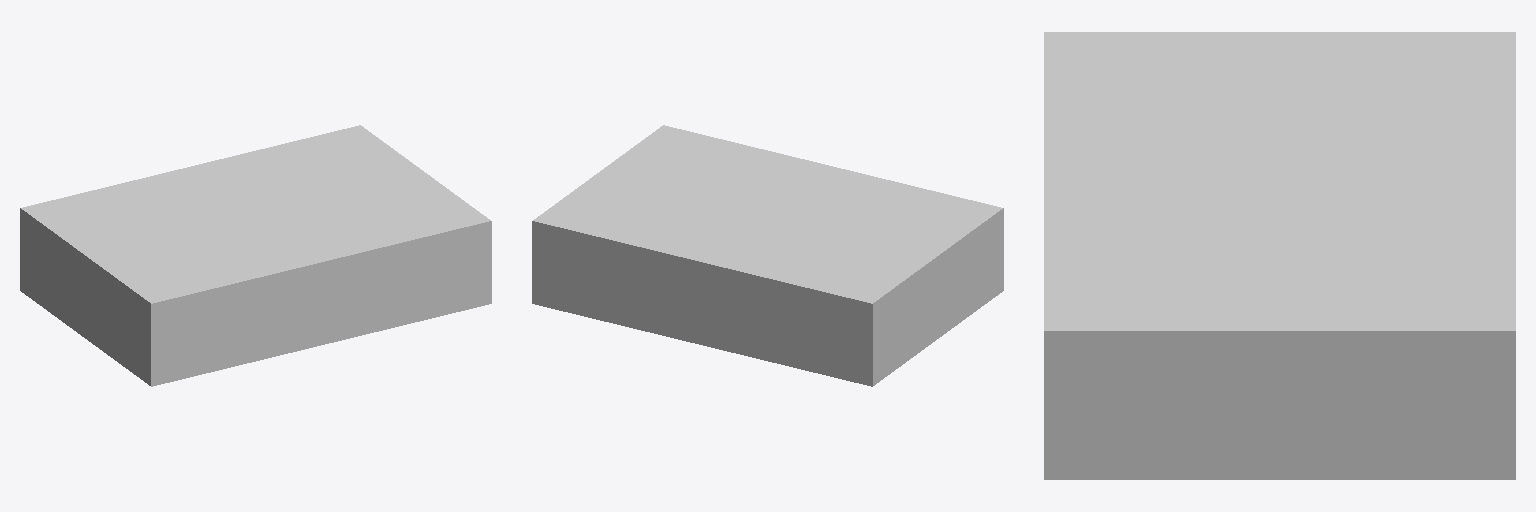
The robot description file, URDF, robot "mecabot_gz":
<?xml version="1.0" ?>
<!-- =================================================================================== -->
<!-- |    This document was autogenerated by xacro from robot_desc/mecabot_gz.main.xacro | -->
<!-- |    EDITING THIS FILE BY HAND IS NOT RECOMMENDED                                 | -->
<!-- =================================================================================== -->
<robot name="mecabot_gz" xmlns:gz="http://gazebosim.org/schema">
  <!-- MATERIALS -->
  <material name="grey">
    <color rgba="0.35 0.35 0.35 1"/>
  </material>
  <material name="silver">
    <color rgba="0.86 0.86 0.86 1"/>
  </material>
  <!-- BODY STARTS HERE -->
  <link name="base_link">
    <visual>
      <origin xyz="0 0 0.0525"/>
      <geometry>
        <box size="0.9 0.6 0.21"/>
      </geometry>
      <material name="silver"/>
    </visual>
    <collision>
      <origin xyz="0 0 0.0525"/>
      <geometry>
        <box size="0.9 0.6 0.21"/>
      </geometry>
    </collision>
    <inertial>
      <origin/>
      <mass value="0.5"/>
      <inertia ixx="0.0168375" ixy="0.0" ixz="0.0" iyy="0.0355875" iyz="0.0" izz="0.048749999999999995"/>
    </inertial>
  </link>
  <link name="front_left_mecanum_link">
    <visual>
      <origin xyz="0 0 0"/>
      <geometry>
        <mesh filename="file://[local-path]/ros2-workspaces/mecabot_ws/install/mecabot_gz/share/mecabot_gz/../../../../robot_desc/mesh/mecanum_left.STL" scale="0.003 0.003 0.003"/>
        <!-- Scale mesh to radius -->
      </geometry>
      <material name="grey"/>
    </visual>
    <collision>
      <origin xyz="0 0 0"/>
      <geometry>
        <sphere radius="0.15"/>
      </geometry>
    </collision>
    <inertial>
      <!-- Values from Gazebo Harmonic mecanum_drive.sdf -->
      <mass value="2"/>
      <inertia ixx="0.145833" ixy="0" ixz="0" iyy="0.145833" iyz="0" izz="0.125"/>
    </inertial>
  </link>
  <gazebo reference="front_left_mecanum_link">
    <!-- NECESSARY: implemented this way to include the gz:expressed_in attributes-->
    <collision>
      <surface>
        <contact>
          <ode/>
        </contact>
        <friction>
          <ode>
            <mu>1.0</mu>
            <mu2>0.0</mu2>
            <fdir1 gz:expressed_in="base_link">1 -1 0</fdir1>
          </ode>
        </friction>
      </surface>
    </collision>
  </gazebo>
  <link name="front_right_mecanum_link">
    <visual>
      <origin xyz="0 0 0"/>
      <geometry>
        <mesh filename="file://[local-path]/ros2-workspaces/mecabot_ws/install/mecabot_gz/share/mecabot_gz/../../../../robot_desc/mesh/mecanum_right.STL" scale="0.003 0.003 0.003"/>
        <!-- Scale mesh to radius -->
      </geometry>
      <material name="grey"/>
    </visual>
    <collision>
      <origin xyz="0 0 0"/>
      <geometry>
        <sphere radius="0.15"/>
      </geometry>
    </collision>
    <inertial>
      <!-- Values from Gazebo Harmonic mecanum_drive.sdf -->
      <mass value="2"/>
      <inertia ixx="0.145833" ixy="0" ixz="0" iyy="0.145833" iyz="0" izz="0.125"/>
    </inertial>
  </link>
  <gazebo reference="front_right_mecanum_link">
    <!-- NECESSARY: implemented this way to include the gz:expressed_in attributes-->
    <collision>
      <surface>
        <contact>
          <ode/>
        </contact>
        <friction>
          <ode>
            <mu>1.0</mu>
            <mu2>0.0</mu2>
            <fdir1 gz:expressed_in="base_link">1 1 0</fdir1>
          </ode>
        </friction>
      </surface>
    </collision>
  </gazebo>
  <link name="rear_right_mecanum_link">
    <visual>
      <origin xyz="0 0 0"/>
      <geometry>
        <mesh filename="file://[local-path]/ros2-workspaces/mecabot_ws/install/mecabot_gz/share/mecabot_gz/../../../../robot_desc/mesh/mecanum_left.STL" scale="0.003 0.003 0.003"/>
        <!-- Scale mesh to radius -->
      </geometry>
      <material name="grey"/>
    </visual>
    <collision>
      <origin xyz="0 0 0"/>
      <geometry>
        <sphere radius="0.15"/>
      </geometry>
    </collision>
    <inertial>
      <!-- Values from Gazebo Harmonic mecanum_drive.sdf -->
      <mass value="2"/>
      <inertia ixx="0.145833" ixy="0" ixz="0" iyy="0.145833" iyz="0" izz="0.125"/>
    </inertial>
  </link>
  <gazebo reference="rear_right_mecanum_link">
    <!-- NECESSARY: implemented this way to include the gz:expressed_in attributes-->
    <collision>
      <surface>
        <contact>
          <ode/>
        </contact>
        <friction>
          <ode>
            <mu>1.0</mu>
            <mu2>0.0</mu2>
            <fdir1 gz:expressed_in="base_link">1 -1 0</fdir1>
          </ode>
        </friction>
      </surface>
    </collision>
  </gazebo>
  <link name="rear_left_mecanum_link">
    <visual>
      <origin xyz="0 0 0"/>
      <geometry>
        <mesh filename="file://[local-path]/ros2-workspaces/mecabot_ws/install/mecabot_gz/share/mecabot_gz/../../../../robot_desc/mesh/mecanum_right.STL" scale="0.003 0.003 0.003"/>
        <!-- Scale mesh to radius -->
      </geometry>
      <material name="grey"/>
    </visual>
    <collision>
      <origin xyz="0 0 0"/>
      <geometry>
        <sphere radius="0.15"/>
      </geometry>
    </collision>
    <inertial>
      <!-- Values from Gazebo Harmonic mecanum_drive.sdf -->
      <mass value="2"/>
      <inertia ixx="0.145833" ixy="0" ixz="0" iyy="0.145833" iyz="0" izz="0.125"/>
    </inertial>
  </link>
  <gazebo reference="rear_left_mecanum_link">
    <!-- NECESSARY: implemented this way to include the gz:expressed_in attributes-->
    <collision>
      <surface>
        <contact>
          <ode/>
        </contact>
        <friction>
          <ode>
            <mu>1.0</mu>
            <mu2>0.0</mu2>
            <fdir1 gz:expressed_in="base_link">1 1 0</fdir1>
          </ode>
        </friction>
      </surface>
    </collision>
  </gazebo>
  <link name="test_link">
    <visual>
      <origin rpy="1.5707963267948966 0 0" xyz="0 0.5 0"/>
      <geometry>
        <mesh filename="file://[local-path]/ros2-workspaces/mecabot_ws/install/mecabot_gz/share/mecabot_gz/../../../../robot_desc/mesh/omni_wheel.stl" scale="0.035 0.035 0.035"/>
        <!-- Scale mesh to radius -->
      </geometry>
      <material name="grey"/>
    </visual>
    <collision>
      <origin xyz="0 0 0"/>
      <geometry>
        <sphere radius="0.15"/>
      </geometry>
    </collision>
    <inertial>
      <!-- 
          Values referenced from Gazebo Harmonic mecanum_drive.sdf 
          but the mass changed from 2kg to 1.5kg
        -->
      <mass value="1.5"/>
      <inertia ixx="0.109375" ixy="0" ixz="0" iyy="0.109375" iyz="0" izz="0.09375"/>
    </inertial>
  </link>
  <gazebo reference="test_link">
    <!-- NECESSARY: implemented this way to include the gz:expressed_in attributes-->
    <collision>
      <surface>
        <contact>
          <ode/>
        </contact>
        <friction>
          <ode>
            <mu>1.0</mu>
            <mu2>0.0</mu2>
            <fdir1 gz:expressed_in="base_link">1 0 0</fdir1>
          </ode>
        </friction>
      </surface>
    </collision>
  </gazebo>
  <joint name="test" type="fixed">
    <parent link="base_link"/>
    <child link="test_link"/>
  </joint>
  <joint name="front_left_mecanum_joint" type="continuous">
    <origin xyz="0.28125 0.375 0"/>
    <parent link="base_link"/>
    <child link="front_left_mecanum_link"/>
    <axis xyz="0 1 0"/>
  </joint>
  <joint name="front_right_mecanum_joint" type="continuous">
    <origin xyz="0.28125 -0.375 0"/>
    <parent link="base_link"/>
    <child link="front_right_mecanum_link"/>
    <axis xyz="0 1 0"/>
  </joint>
  <joint name="rear_right_mecanum_joint" type="continuous">
    <origin xyz="-0.28125 -0.375 0"/>
    <parent link="base_link"/>
    <child link="rear_right_mecanum_link"/>
    <axis xyz="0 1 0"/>
  </joint>
  <joint name="rear_left_mecanum_joint" type="continuous">
    <origin xyz="-0.28125 0.375 0"/>
    <parent link="base_link"/>
    <child link="rear_left_mecanum_link"/>
    <axis xyz="0 1 0"/>
  </joint>
  <!-- GAZEBO PLUGINS -->
  <gazebo>
    <plugin filename="gz-sim-mecanum-drive-system" name="gz::sim::systems::MecanumDrive">
      <front_left_joint>front_left_mecanum_joint</front_left_joint>
      <front_right_joint>front_right_mecanum_joint</front_right_joint>
      <back_left_joint>rear_left_mecanum_joint</back_left_joint>
      <back_right_joint>rear_right_mecanum_joint</back_right_joint>
      <wheel_separation>0.75</wheel_separation>
      <wheelbase>0.5625</wheelbase>
      <wheel_radius>0.15</wheel_radius>
      <topic>/cmd_vel</topic>
      <min_acceleration>-3</min_acceleration>
      <max_acceleration>3</max_acceleration>
    </plugin>
    <plugin filename="gz-sim-joint-state-publisher-system" name="gz::sim::systems::JointStatePublisher">
      <topic>/joint_states</topic>
    </plugin>
  </gazebo>
</robot>

--- Render facts (derived) ---
The picture shows the robot from 3 angles, left to right: view 1: azimuth 30°, elevation 25°; view 2: azimuth 150°, elevation 25°; view 3: azimuth 270°, elevation 25°; orthographic projection.
Model mecabot_gz with 6 links and 5 joints (4 continuous, 1 fixed), rooted at base_link, posed every joint at zero.
Links seen in each view (by area): view 1: base_link; view 2: base_link; view 3: base_link.
Link boxes in pixels (bbox=[...]): base_link: bbox=[20, 125, 491, 386]; base_link: bbox=[532, 125, 1003, 386]; base_link: bbox=[1044, 32, 1515, 479].
Bounding box of the posed robot: 0.9 × 0.6 × 0.21 m (x, y, z).
Geometry: only primitive shapes (box / cylinder / sphere) drawn; not drawn: 5 mesh visuals (reference in a form the renderer does not follow).